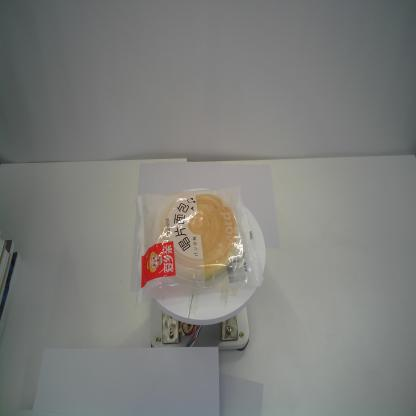Dessert: (129, 179, 264, 306)
